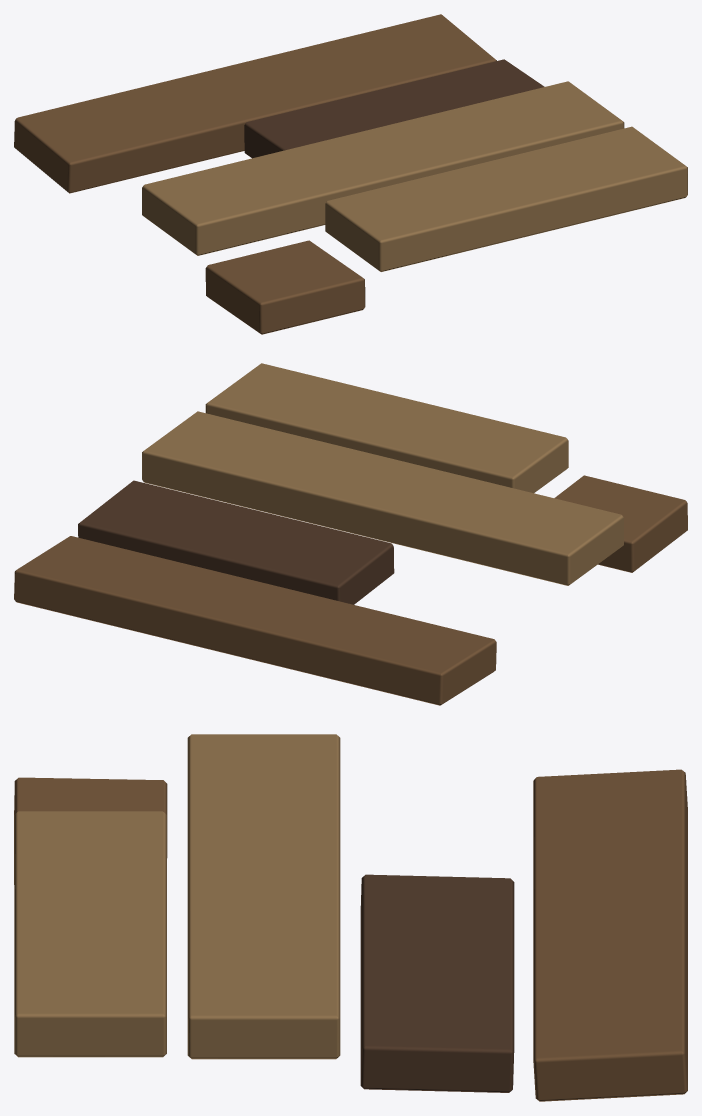
The model's file is railcar-planks-broken.21346333.glb.
3 renders of one model, top to bottom at view 1: azimuth 30°, elevation 25°; view 2: azimuth 150°, elevation 25°; view 3: azimuth 270°, elevation 25°, orthographic. The views are drawn at different scales.
Parts seen in each view (by area): view 1: body; view 2: body; view 3: body.
Boxes of the visible parts, box(x1,y1,x2,y2) form: body: box(14, 14, 687, 334); body: box(14, 363, 687, 705); body: box(14, 734, 687, 1101).
Size of the model in its own units: 0.97 by 0.1461 by 0.972.
